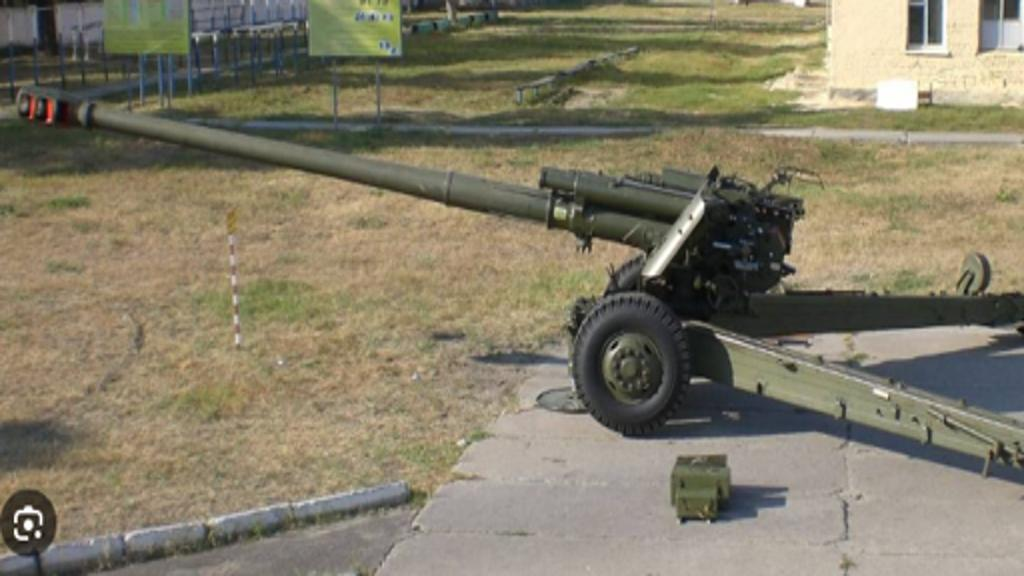ART: (14, 81, 1022, 480)
